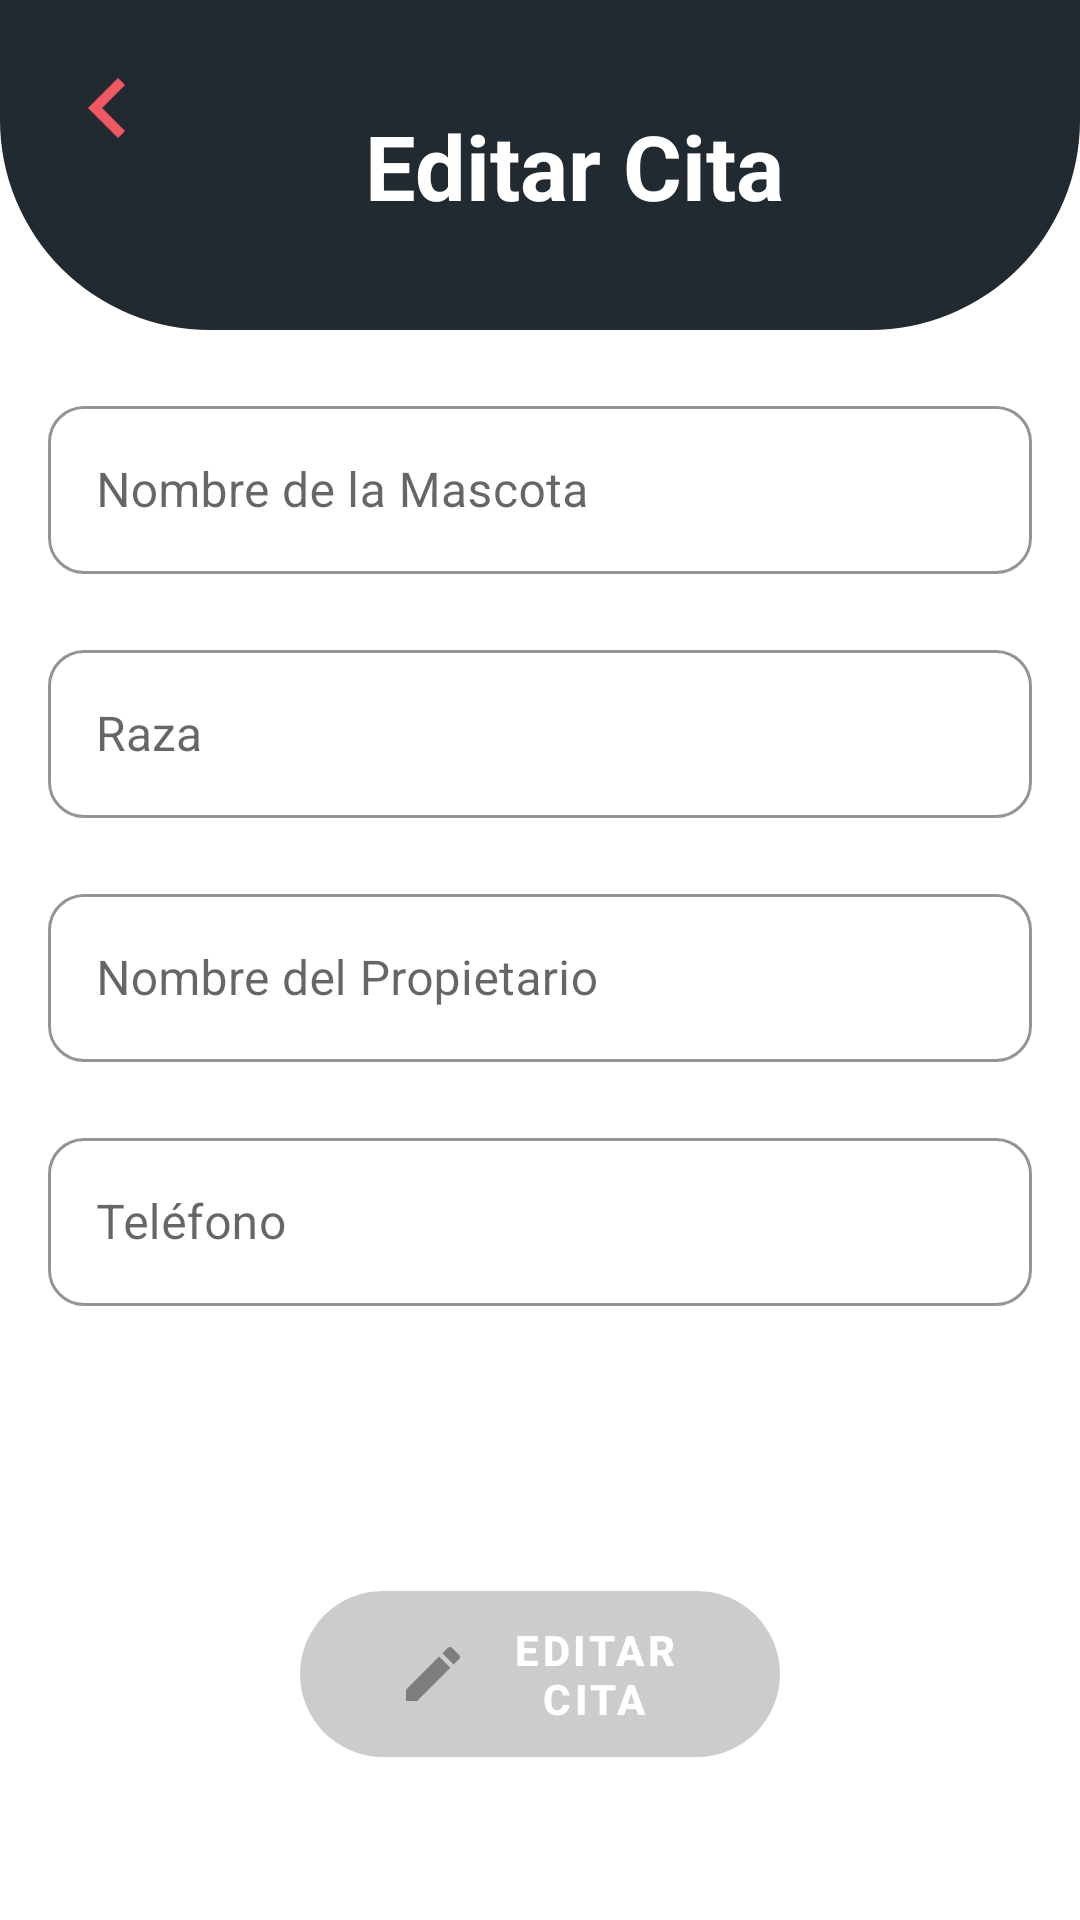

Icons on this 1080px x 1920px Android screen, each with its box as rect(x1, y1, x2, y2):
Botón para volver: rect(88, 78, 125, 138)
